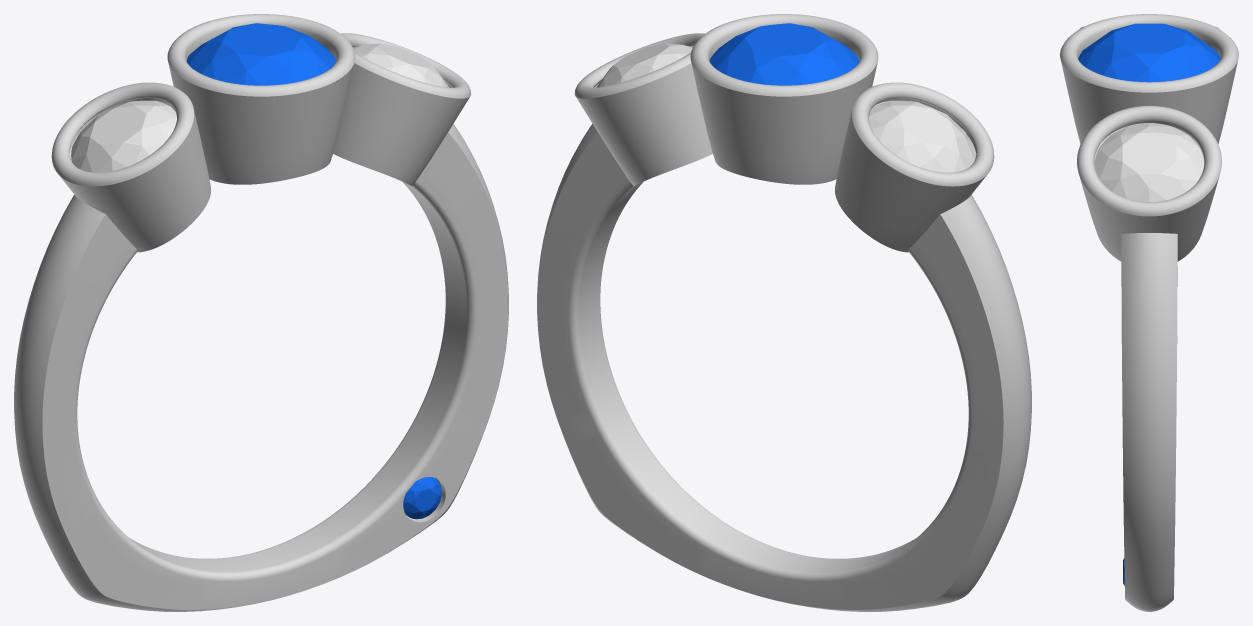
Rendered from MelissaPTsapph_blender.glb.
3 renders of one model, left to right at view 1: azimuth 30°, elevation 25°; view 2: azimuth 150°, elevation 25°; view 3: azimuth 270°, elevation 25°, orthographic. The views are drawn at different scales.
Parts seen in each view (by area): view 1: Melissa PT for 3d model, Melissa sapph for 3d model, Melissa dia for 3d model.001, Melissa dia for 3d model, Melissa sapph for 3d model.001; view 2: Melissa PT for 3d model, Melissa sapph for 3d model, Melissa dia for 3d model.001, Melissa dia for 3d model; view 3: Melissa PT for 3d model, Melissa dia for 3d model, Melissa sapph for 3d model.
Boxes of the visible parts, x1,y1,x2,y2 form: Melissa PT for 3d model: (14,14,508,611); Melissa sapph for 3d model: (186,23,336,85); Melissa dia for 3d model.001: (71,100,176,172); Melissa dia for 3d model: (353,43,449,87); Melissa sapph for 3d model.001: (403,477,441,519); Melissa PT for 3d model: (537,14,1031,611); Melissa sapph for 3d model: (709,23,859,85); Melissa dia for 3d model.001: (869,100,974,172); Melissa dia for 3d model: (596,43,692,87); Melissa PT for 3d model: (1060,14,1238,611); Melissa dia for 3d model: (1094,123,1204,202); Melissa sapph for 3d model: (1078,23,1220,82).
Size of the model in its own units: 22.73 by 25.04 by 7.65.
